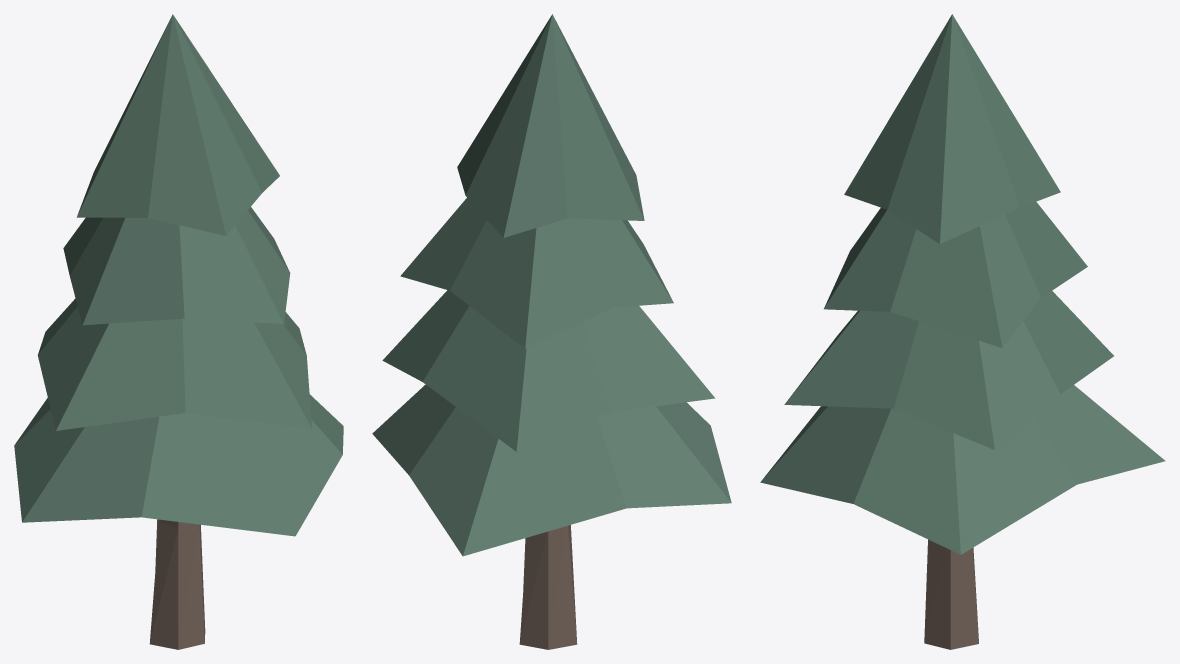
The model's file is Pine_Small.glb.
3 renders of one model, left to right at view 1: azimuth 30°, elevation 25°; view 2: azimuth 150°, elevation 25°; view 3: azimuth 270°, elevation 25°, orthographic.
Visible parts, largest first — view 1: Foliage, Trunk; view 2: Foliage, Trunk; view 3: Foliage, Trunk.
Boxes of the visible parts, bbox=[...] form: Foliage: bbox=[14, 14, 343, 536]; Trunk: bbox=[149, 519, 205, 649]; Foliage: bbox=[372, 14, 731, 556]; Trunk: bbox=[519, 525, 577, 649]; Foliage: bbox=[760, 14, 1165, 554]; Trunk: bbox=[924, 539, 978, 649].
Bounding box in the file's own units: 9.15 × 16.03 × 9.5.
